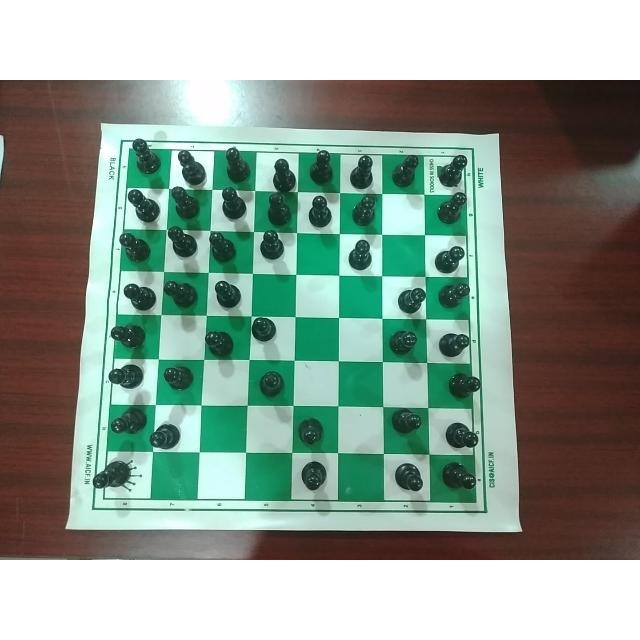black-pawn: (91, 457, 139, 490), (442, 416, 482, 452), (439, 461, 481, 495), (109, 405, 147, 441), (172, 146, 207, 185), (392, 460, 428, 497), (164, 225, 200, 261), (116, 228, 153, 263), (445, 366, 482, 400), (437, 278, 470, 316), (389, 152, 421, 191), (126, 187, 160, 223), (169, 184, 203, 220), (162, 275, 198, 309), (295, 414, 331, 448), (120, 278, 158, 310), (388, 404, 426, 436), (131, 136, 161, 175), (307, 148, 336, 188), (148, 421, 188, 450), (206, 229, 239, 264), (106, 365, 147, 393), (218, 186, 248, 224), (437, 190, 467, 228), (110, 320, 148, 350), (297, 458, 330, 492), (386, 324, 421, 356), (161, 361, 196, 393), (263, 191, 293, 228), (222, 146, 251, 184), (258, 366, 290, 400), (433, 243, 468, 274), (397, 283, 427, 319), (306, 192, 334, 230), (437, 329, 472, 359), (348, 153, 376, 190), (259, 227, 287, 264), (348, 195, 380, 227), (347, 237, 377, 271), (437, 154, 468, 186), (269, 156, 296, 192), (202, 326, 234, 356), (213, 277, 241, 308), (251, 316, 279, 344)
